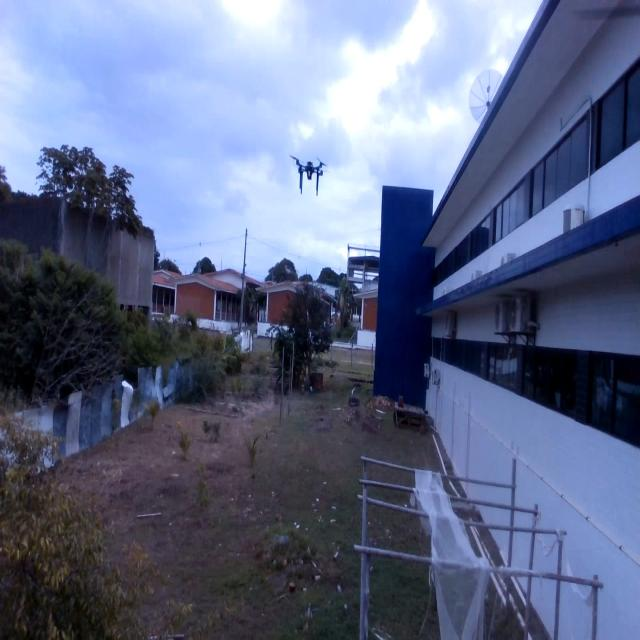-uav-: (286, 147, 331, 206)
